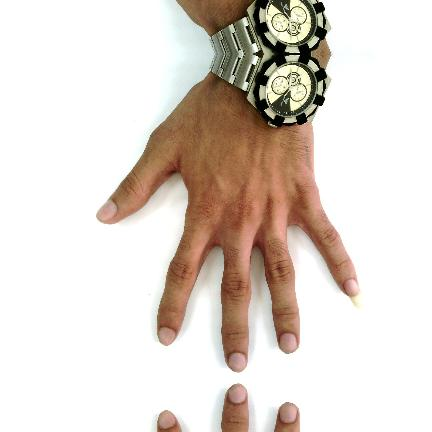Nail: (344, 279, 365, 309), (96, 199, 117, 222), (280, 333, 299, 354), (280, 402, 299, 423), (228, 353, 247, 373), (228, 383, 247, 403), (158, 327, 176, 346), (158, 410, 176, 429)
